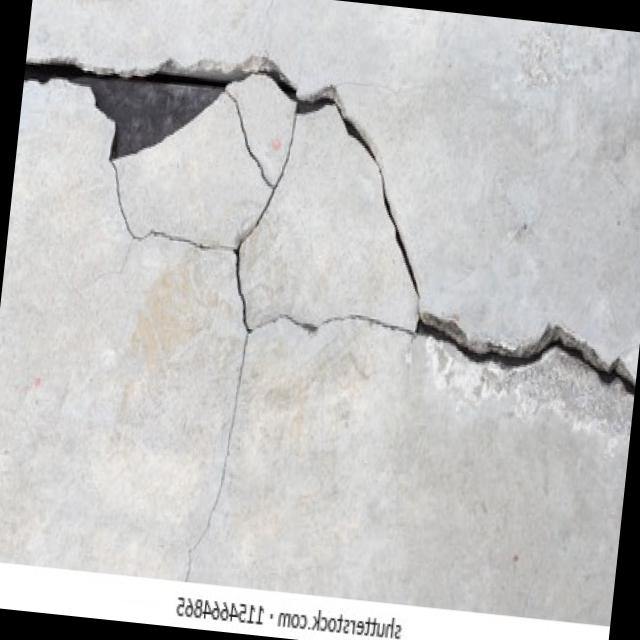crack: (0, 25, 640, 392), (185, 325, 253, 581)
